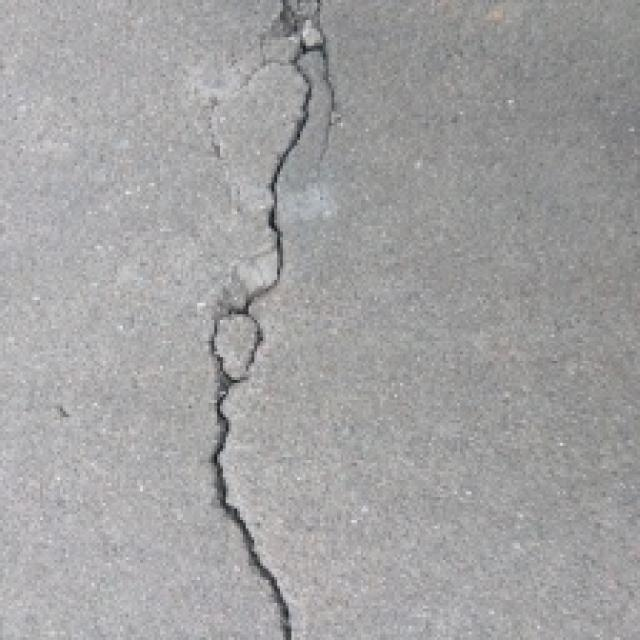crack: (176, 0, 358, 640)
